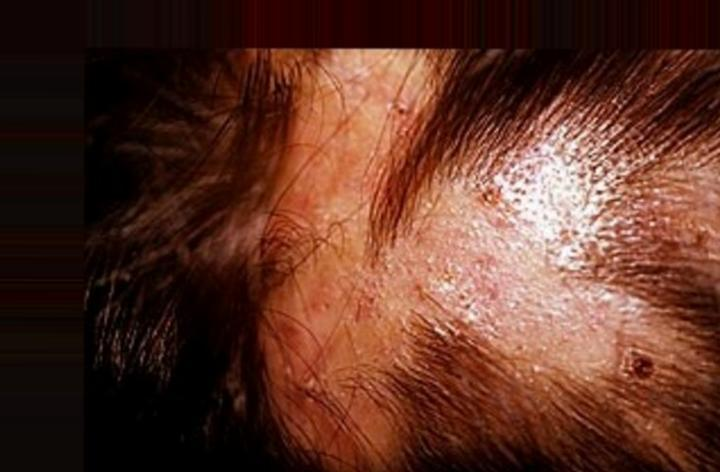Folliculitis: (288, 106, 579, 385)
